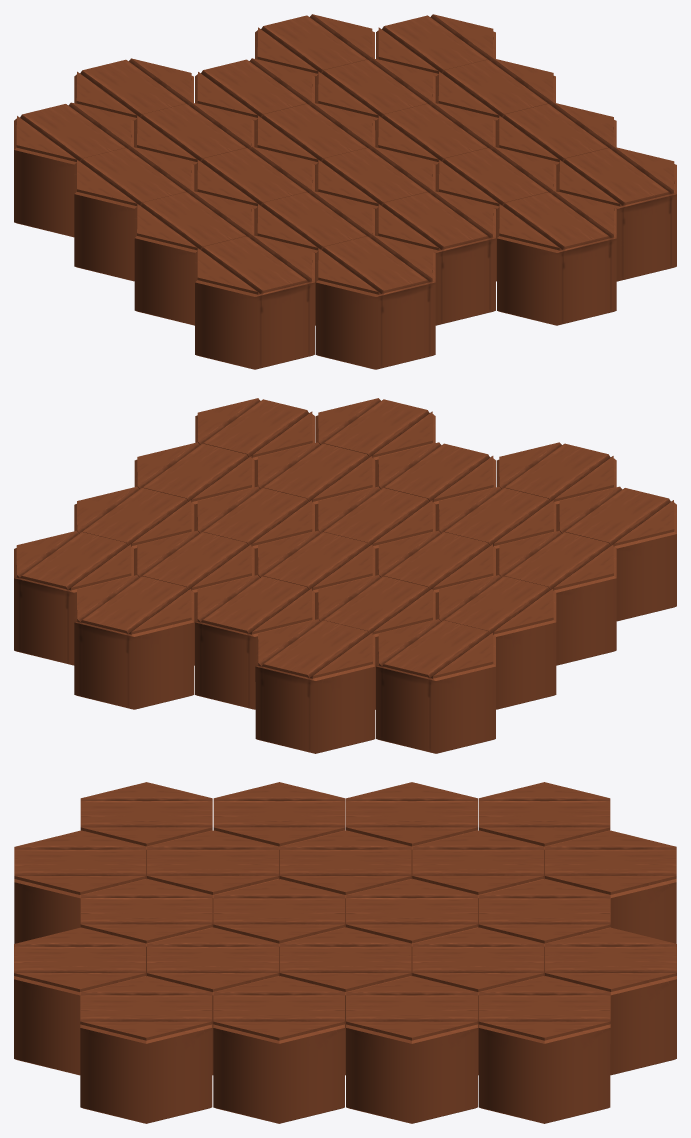
Rendered from Tile_test.fbx.
3 views of the same model, one above another, from view 1: azimuth 30°, elevation 25°; view 2: azimuth 150°, elevation 25°; view 3: azimuth 270°, elevation 25° (orthographic). The views are drawn at different scales.
Visible parts, largest first — view 1: Object031; view 2: Object031; view 3: Object031.
Part boxes in pixels (x1,y1,x2,y2): Object031: (14,14,676,369); Object031: (14,398,676,753); Object031: (14,782,676,1123).
Bounding box in the file's own units: 8.88 × 9.62 × 1.38.
Materials: 22 (22 with a texture image).
